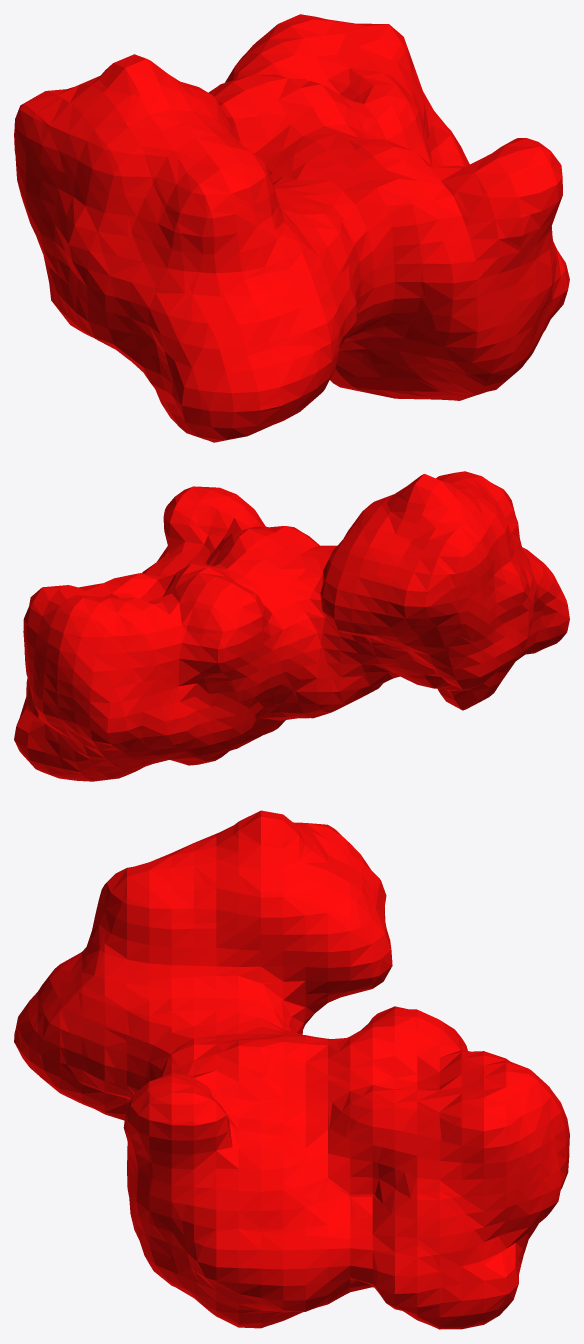
The model's file is potG_coarse.dae.
The picture shows the model from 3 angles, top to bottom: view 1: azimuth 30°, elevation 25°; view 2: azimuth 150°, elevation 25°; view 3: azimuth 270°, elevation 25°; orthographic projection. The views are drawn at different scales.
Parts seen in each view (by area): view 1: potG; view 2: potG; view 3: potG.
Boxes of the visible parts, left/top/right/bottom form: potG: left=14, top=14, right=569, bottom=442; potG: left=14, top=471, right=569, bottom=781; potG: left=14, top=810, right=569, bottom=1329.
Bounding box in the file's own units: 72.24 × 53.99 × 72.6.
